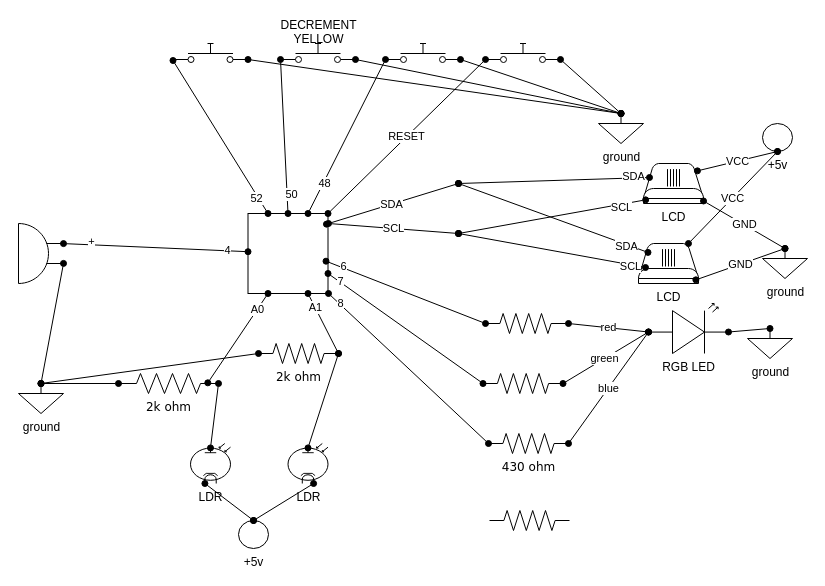
The diagram is 825 pixels wide and 586 high, and some of its shapes have lost their labels. Here are the shapes that lost their labels. From the top down, the centre of each, then its label:
At pixel 210 53: "INCREMENT GREEN".
At pixel 422 53: "SELECT BLUE".
At pixel 522 53: "RESET BLACK".
At pixel 41 253: "BUZZER".
At pixel 287 253: "MEGA".
At pixel 525 323: "145 ohm".
At pixel 522 383: "1k ohm".
At pixel 529 520: "145 ohm=parallel(423, 220 ohm)".
